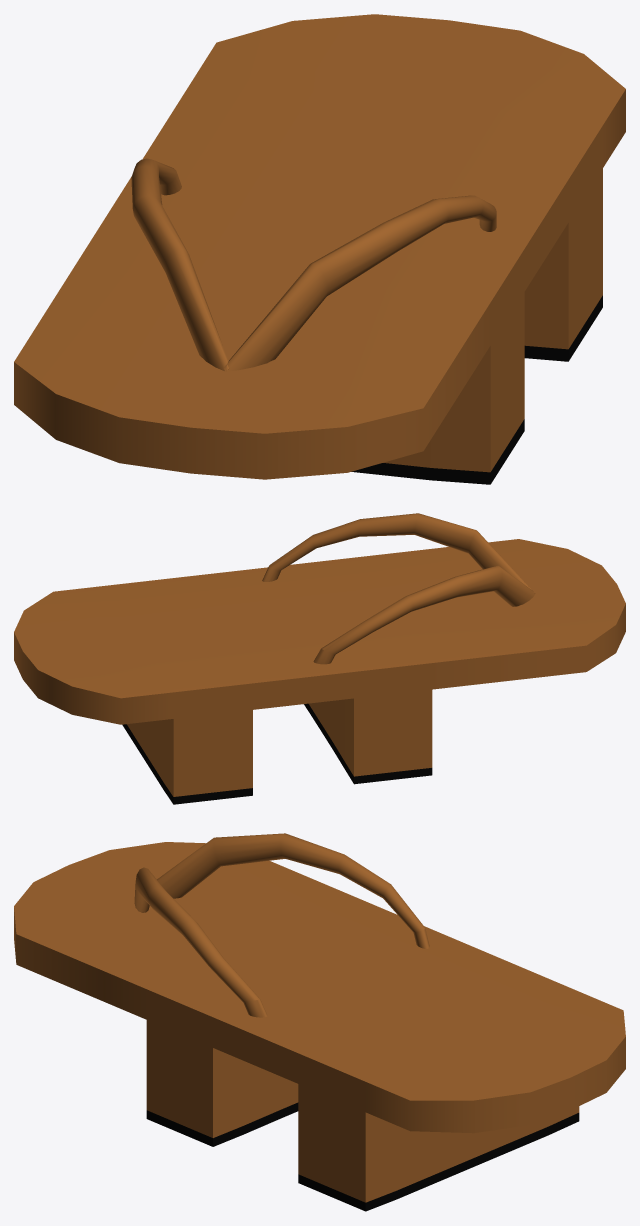
The model's file is chausures.FBX.
3 views of the same model, one above another, from view 1: azimuth 30°, elevation 25°; view 2: azimuth 150°, elevation 25°; view 3: azimuth 270°, elevation 25° (orthographic). The views are drawn at different scales.
Parts seen in each view (by area): view 1: Box304; view 2: Box304; view 3: Box304.
Part boxes in pixels (bbox=[...]): Box304: bbox=[14, 14, 625, 484]; Box304: bbox=[14, 513, 625, 804]; Box304: bbox=[14, 833, 625, 1211].
Bounding box in the file's own units: 42.82 × 15.44 × 42.82.
